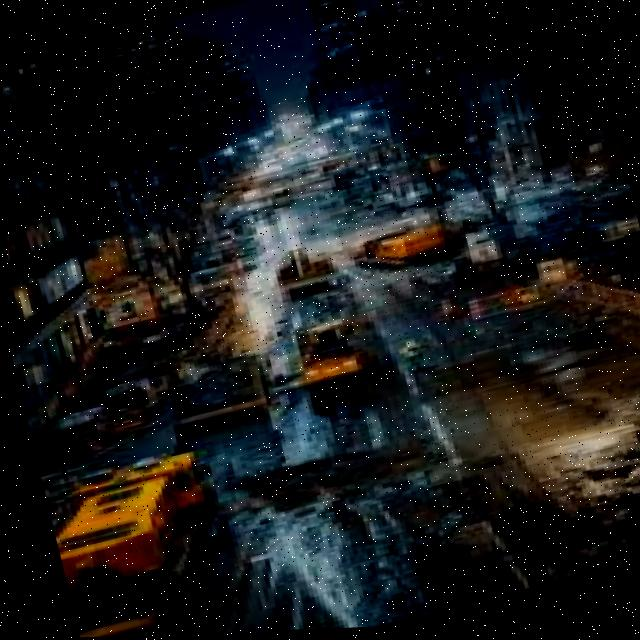truck: (37, 443, 237, 639)
